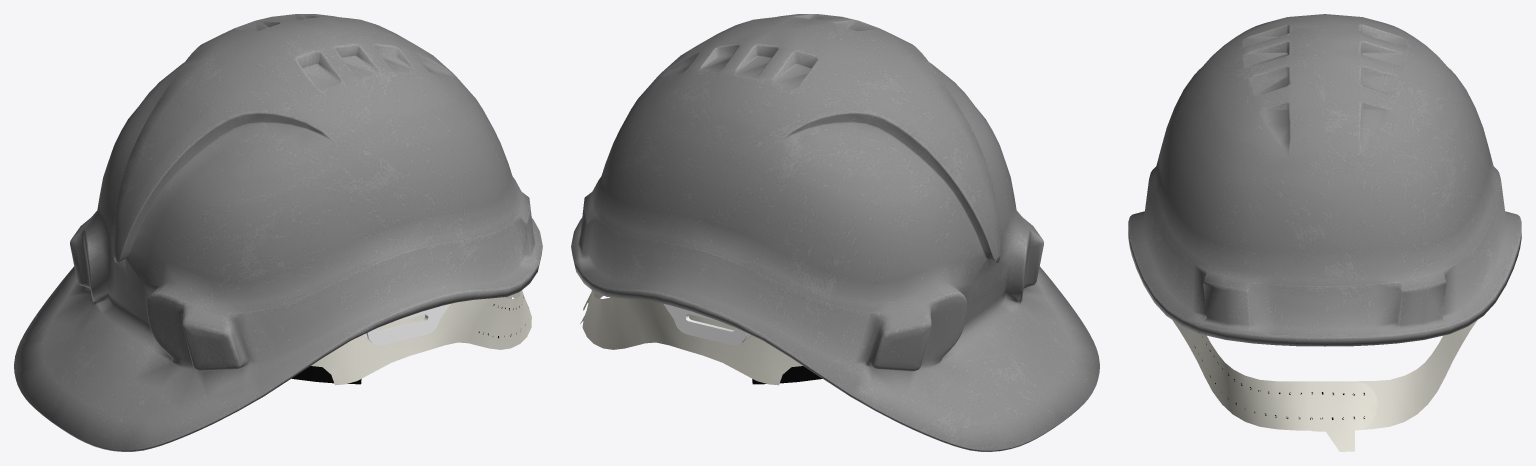
File: Elmo02.glb
3 views of the same model, side by side, from view 1: azimuth 30°, elevation 25°; view 2: azimuth 150°, elevation 25°; view 3: azimuth 270°, elevation 25° (orthographic). The views are drawn at different scales.
Parts seen in each view (by area): view 1: g_5, g_7, g_19, g_13; view 2: g_5, g_3, g_19, g_13; view 3: g_5, g_7, g_3.
Boxes of the visible parts, bbox=[...] form: g_5: bbox=[14, 14, 542, 451]; g_7: bbox=[311, 290, 531, 385]; g_19: bbox=[366, 307, 439, 345]; g_13: bbox=[291, 366, 361, 384]; g_5: bbox=[571, 14, 1099, 451]; g_3: bbox=[580, 290, 802, 385]; g_19: bbox=[674, 307, 747, 345]; g_13: bbox=[752, 366, 822, 384]; g_5: bbox=[1128, 14, 1521, 346]; g_7: bbox=[1172, 320, 1377, 430]; g_3: bbox=[1311, 320, 1477, 451].
Size of the model in its own units: 2 by 1.35 by 1.51.
Materials: 1 (1 with a texture image).
